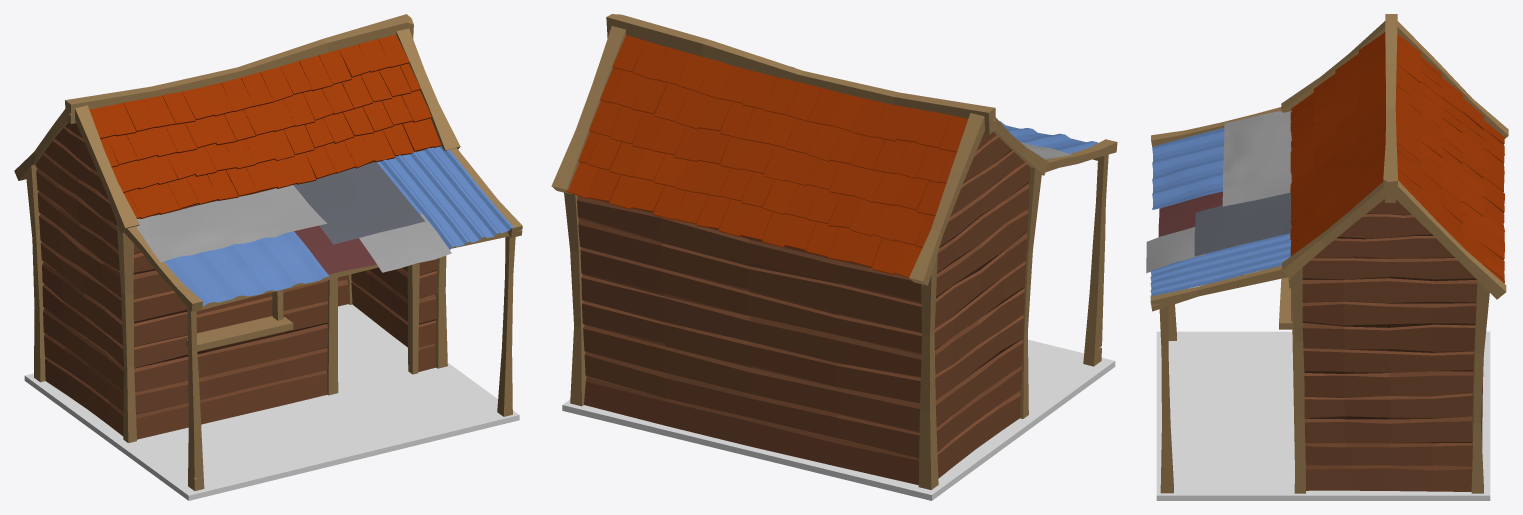
File: shed.fbx
The picture shows the model from 3 angles, left to right: view 1: azimuth 30°, elevation 25°; view 2: azimuth 150°, elevation 25°; view 3: azimuth 270°, elevation 25°; orthographic projection. The views are drawn at different scales.
Visible parts, largest first — view 1: Base, Wall.003, Wall.002, Plane.001, Z Function, Z Function.001, Plane, Cube.007, Wall, Plane.003, Pole.003, Pole.010 (+72 smaller); view 2: Wall.001, Wall.002, Base, Cube.007, Pole.002, Pole.006, Pole.010, Pole.005, Pole, Pole.003, Z Function.001, Pole.011 (+78 smaller); view 3: Wall, Base, Plane.001, Z Function.001, Z Function, Plane, Pole, Cube.007, Pole.001, Pole.005, Pole.004, Pole.009 (+7 smaller).
Boxes of the visible parts, x1,y1,x2,y2 form: Base: [24, 304, 519, 500]; Wall.003: [133, 149, 437, 439]; Wall.002: [35, 122, 123, 436]; Plane.001: [136, 185, 326, 262]; Z Function: [377, 146, 513, 249]; Z Function.001: [164, 231, 329, 306]; Plane: [293, 162, 425, 244]; Cube.007: [65, 14, 413, 123]; Wall: [351, 266, 407, 347]; Plane.003: [359, 214, 451, 272]; Pole.003: [117, 224, 136, 442]; Pole.010: [187, 307, 204, 490]; Wall.001: [577, 195, 921, 484]; Wall.002: [934, 132, 1030, 478]; Base: [562, 339, 1115, 500]; Cube.007: [606, 14, 995, 134]; Pole.002: [918, 253, 938, 489]; Pole.006: [909, 113, 984, 285]; Pole.010: [1083, 154, 1108, 366]; Pole.005: [551, 26, 626, 194]; Pole: [564, 192, 586, 406]; Pole.003: [1019, 167, 1041, 418]; Z Function.001: [999, 121, 1097, 153]; Pole.011: [1045, 139, 1117, 171]; Wall: [1302, 199, 1477, 491]; Base: [1156, 331, 1490, 500]; Plane.001: [1222, 111, 1291, 206]; Z Function.001: [1152, 128, 1224, 209]; Z Function: [1150, 233, 1291, 296]; Plane: [1194, 192, 1291, 256]; Pole: [1471, 280, 1489, 493]; Cube.007: [1383, 14, 1397, 202]; Pole.001: [1290, 267, 1306, 493]; Pole.005: [1396, 180, 1506, 299]; Pole.004: [1282, 182, 1384, 278]; Pole.009: [1159, 306, 1173, 493].
Bounding box in the file's own units: 409 × 364 × 370.
